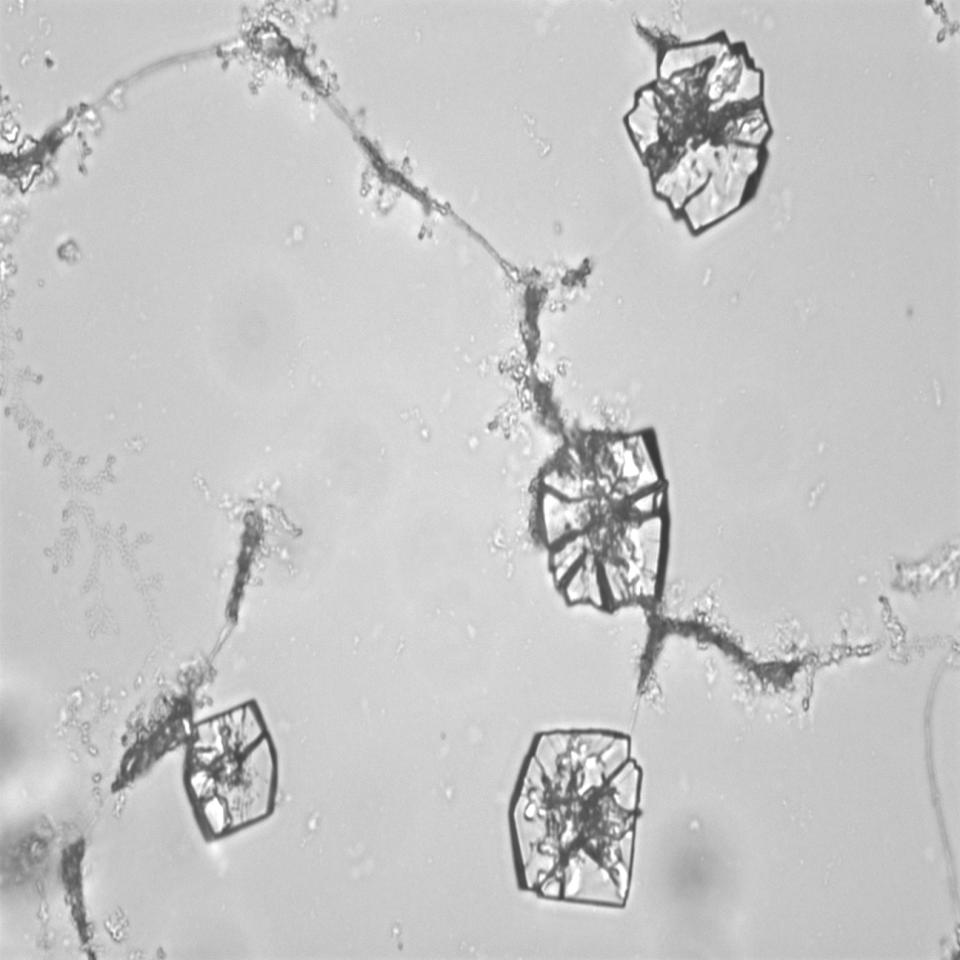crystal: (613, 22, 793, 260), (500, 718, 660, 926), (520, 417, 687, 585), (165, 686, 294, 862)
